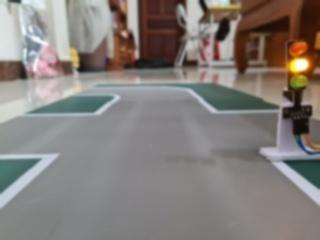yellow: (276, 28, 320, 100)
